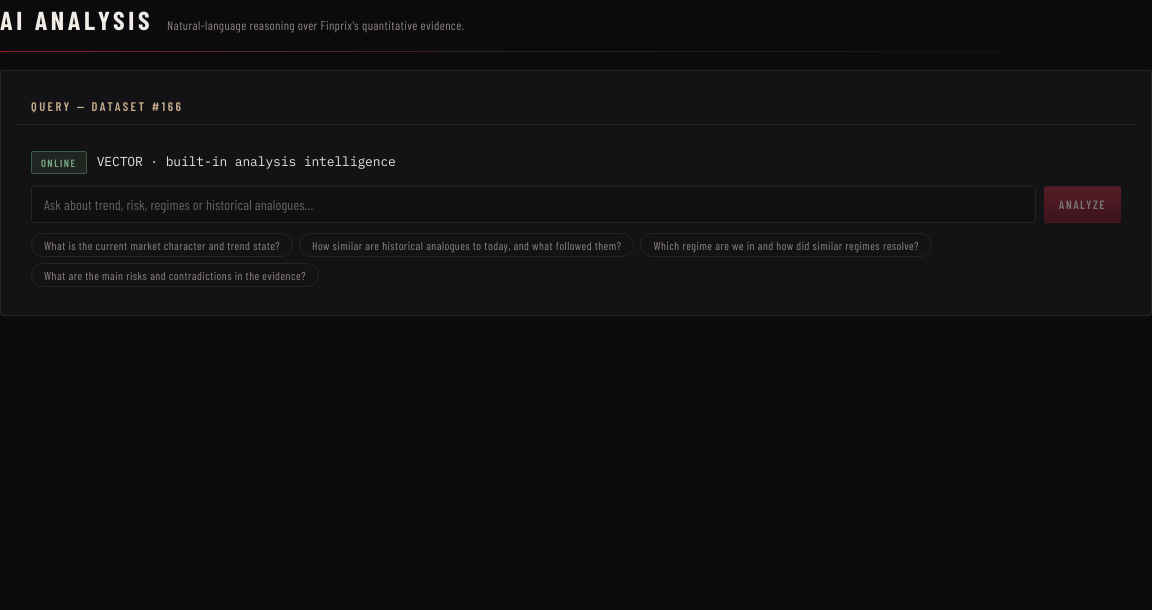
Scenario: VECTOR AI page › badges the engine and source chips on answers
The image size is (1152, 610).
In the field: (533, 204) [31,186,1036,223], type "risk?"
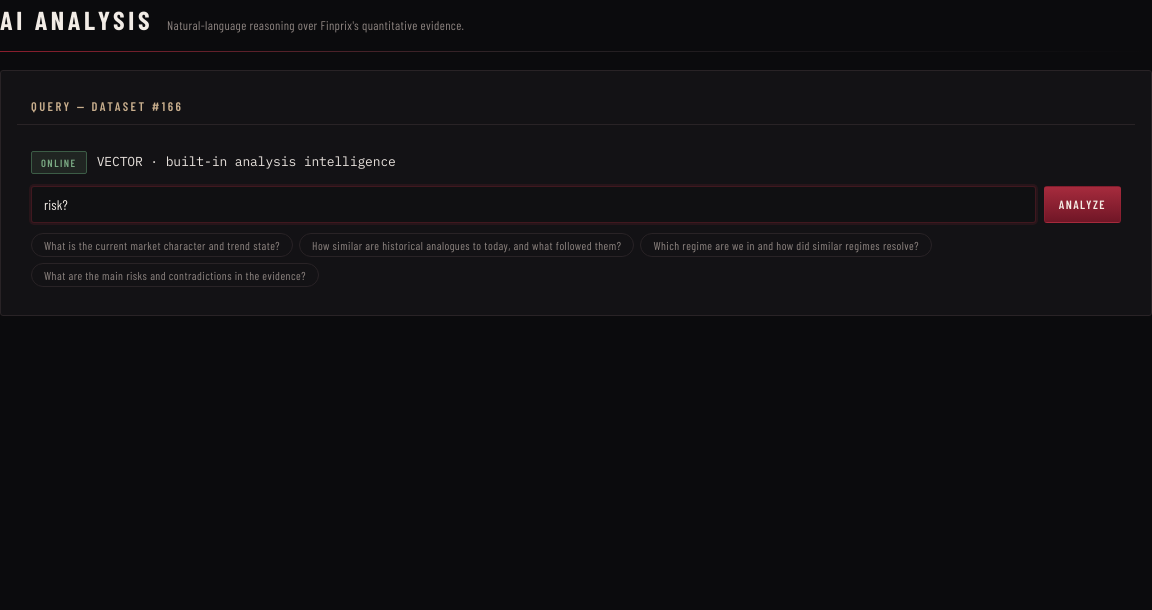
Click the button "ANALYZE": (1082, 204) [1044,186,1121,223]
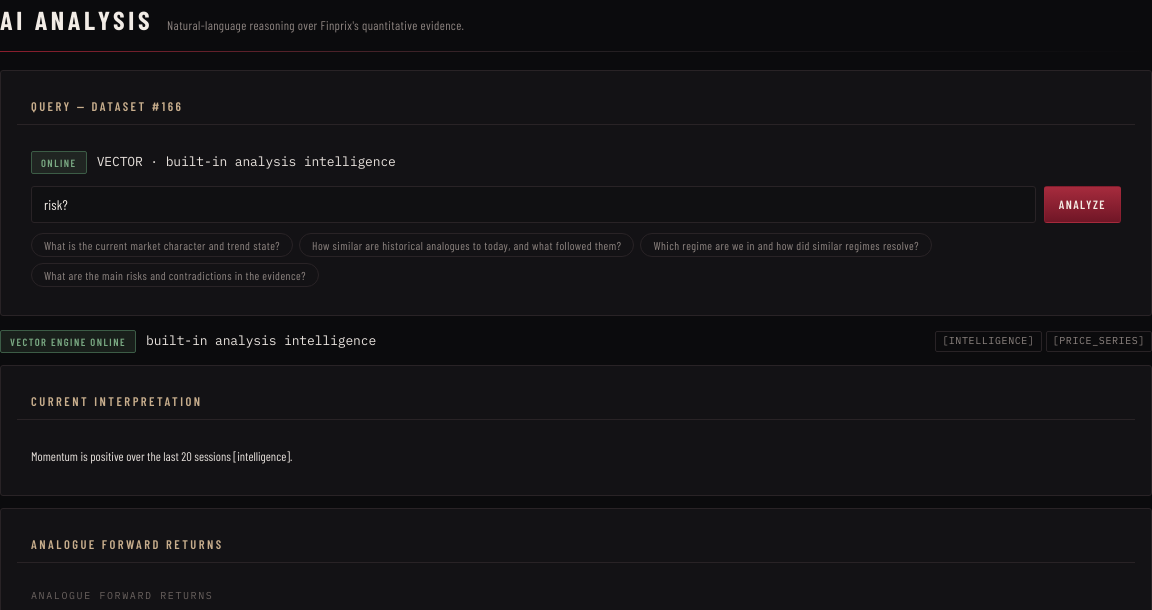
Now the text "VECTOR ENGINE ONLINE" is shown, box [0,330,136,353]
Now the text "[INTELLIGENCE]" is shown, box [935,331,1042,352]
Now the text "[PRICE_SERIES]" is shown, box [1046,331,1151,352]
